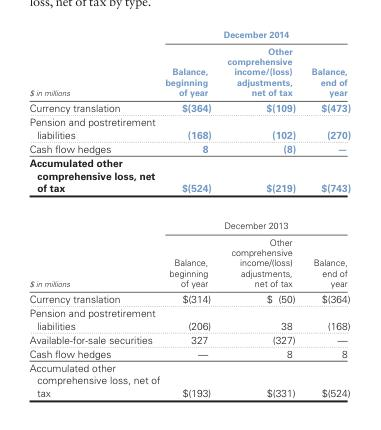table: (28, 28, 350, 398)
table column: (28, 28, 161, 398), (218, 28, 302, 398), (161, 28, 218, 398), (302, 28, 350, 398)
table column header: (28, 28, 350, 99)
table row: (28, 42, 350, 99), (28, 233, 350, 289), (28, 155, 350, 206), (28, 360, 350, 398), (28, 114, 350, 141), (28, 206, 350, 233), (28, 305, 350, 331), (28, 289, 350, 305), (28, 99, 350, 114), (28, 331, 350, 346), (28, 28, 350, 42), (28, 141, 350, 155), (28, 346, 350, 360)
table spanning cell: (28, 155, 161, 233), (28, 28, 161, 99), (161, 206, 350, 233), (161, 28, 350, 42)
